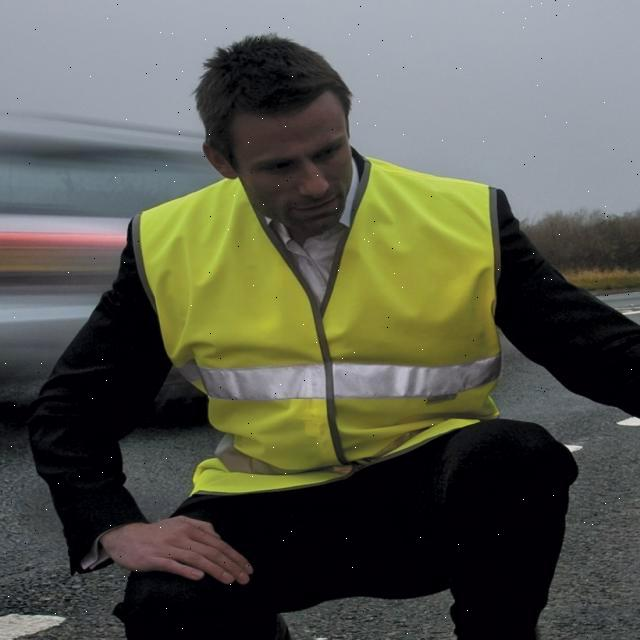Vest: (140, 165, 491, 502)
